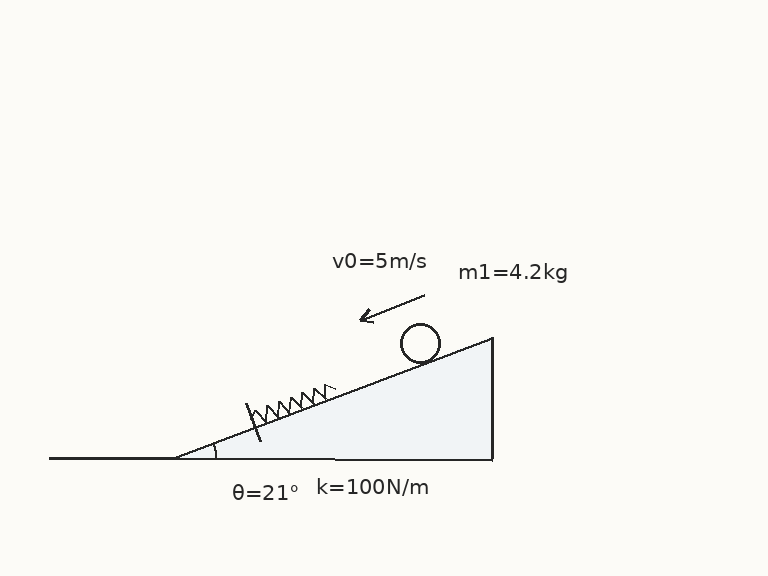ball: (398, 321, 442, 365)
ramp: (174, 335, 494, 460)
spring: (250, 381, 336, 423)
